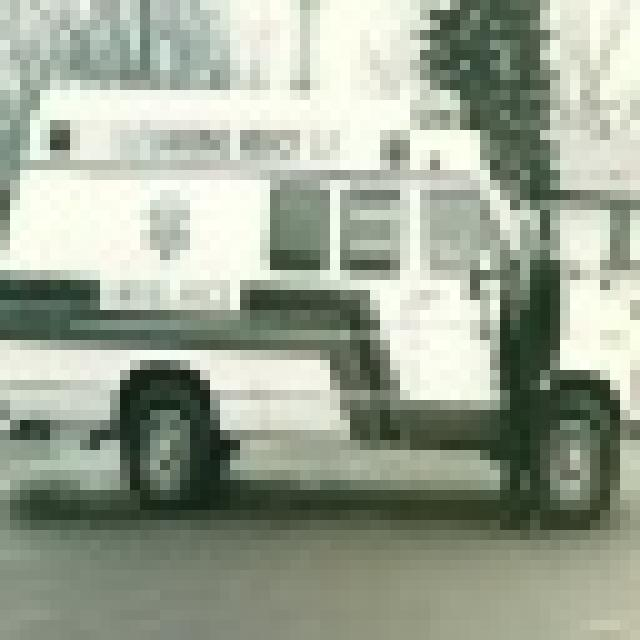Ambulance: (0, 80, 620, 520)
